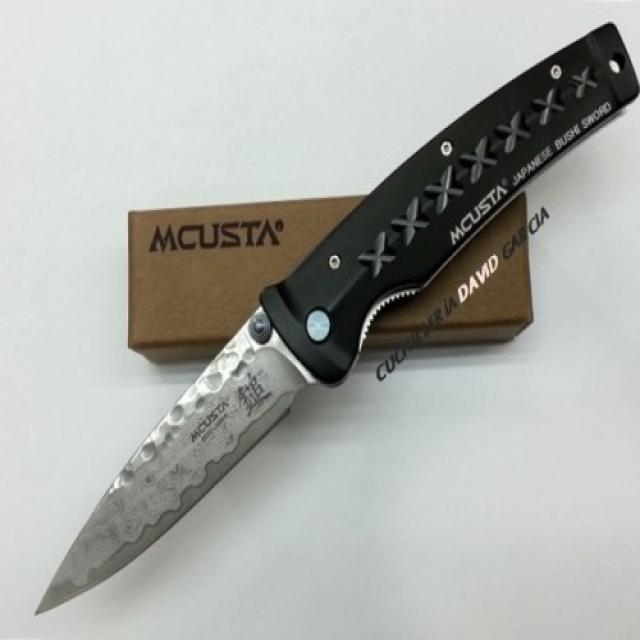knife: (6, 8, 640, 640)
